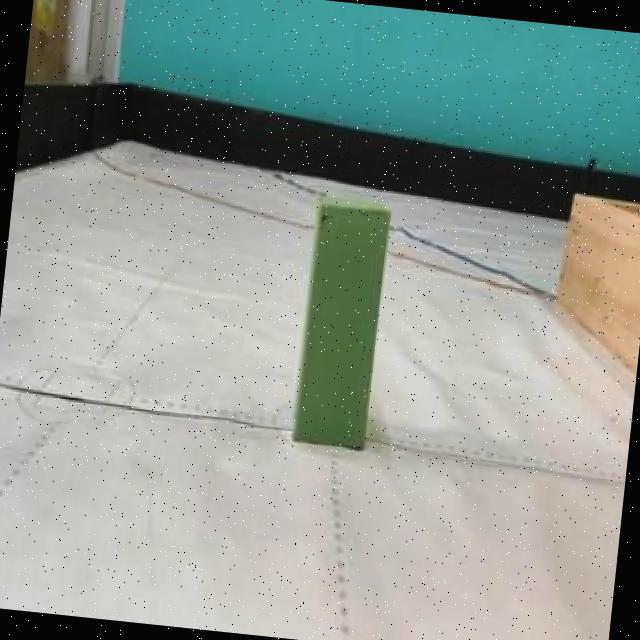greenbox: (290, 193, 394, 452)
